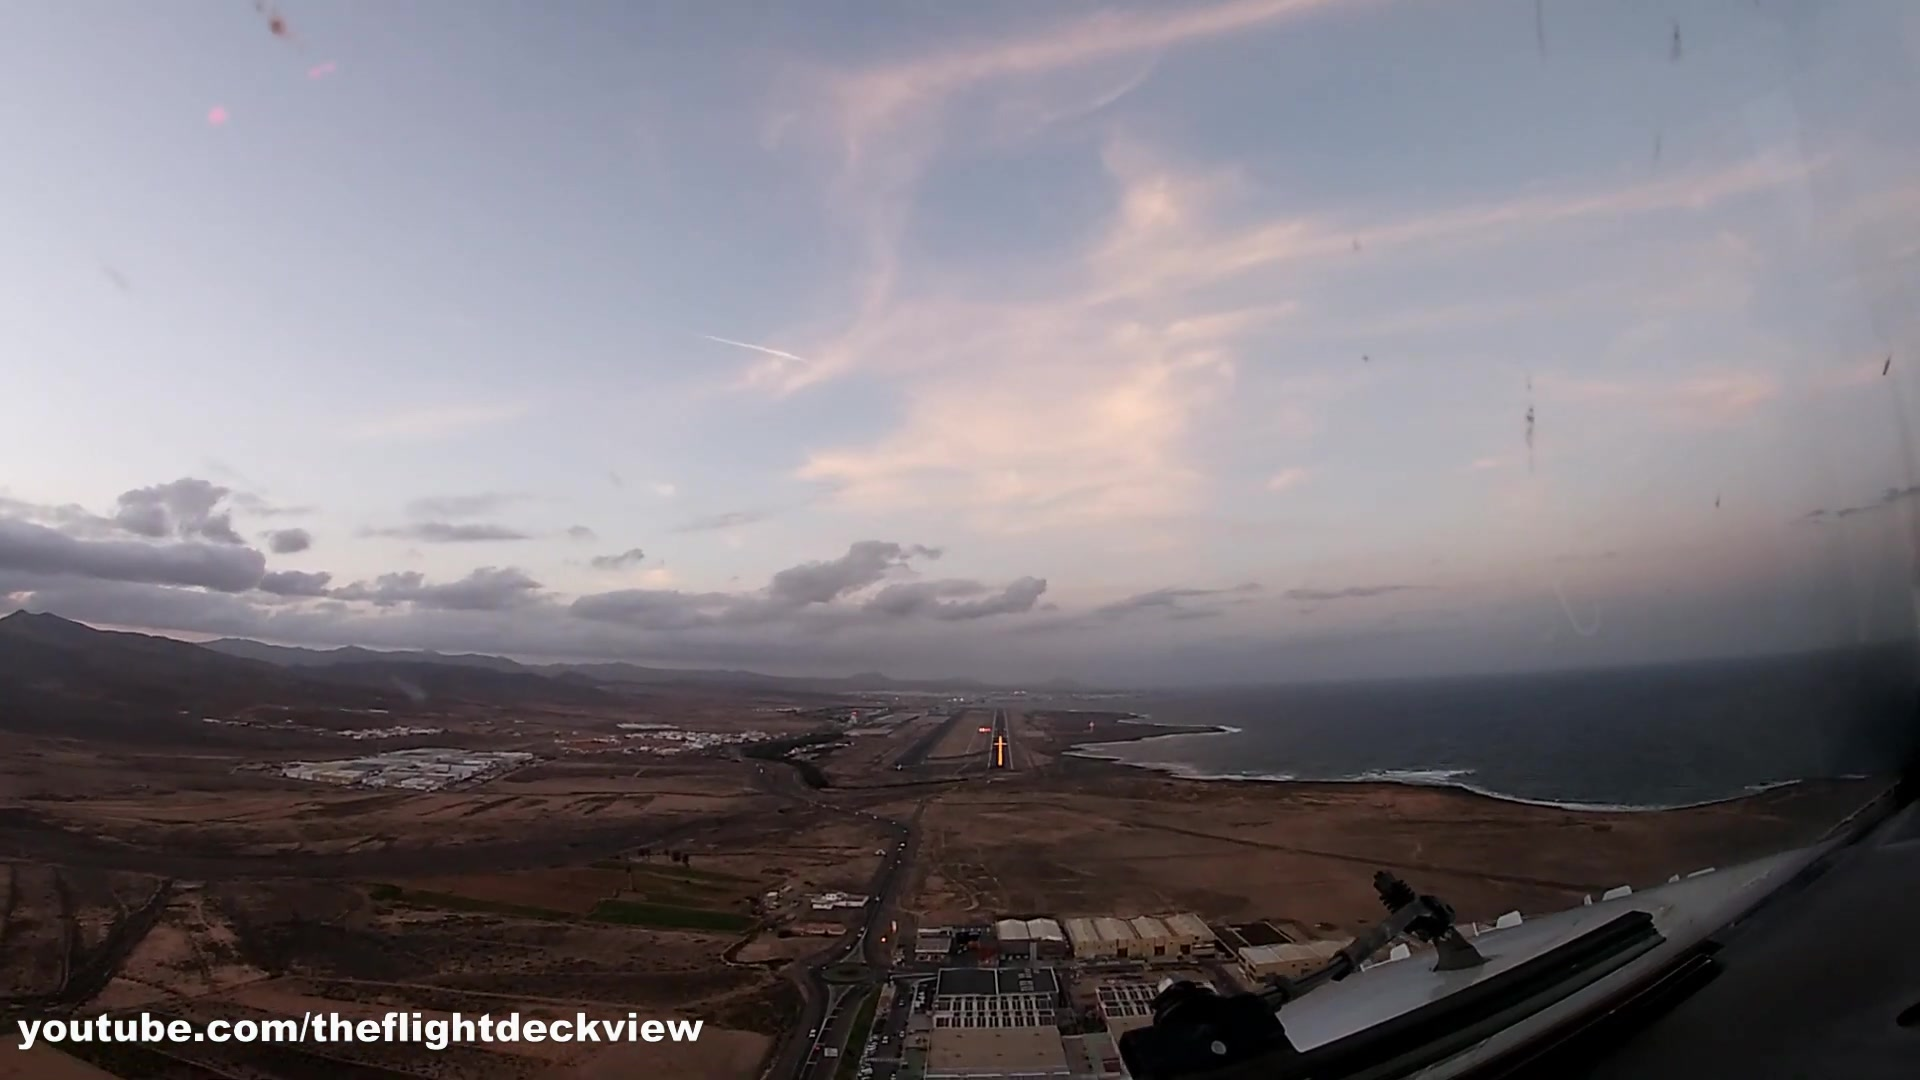runway: (986, 707, 1011, 767)
